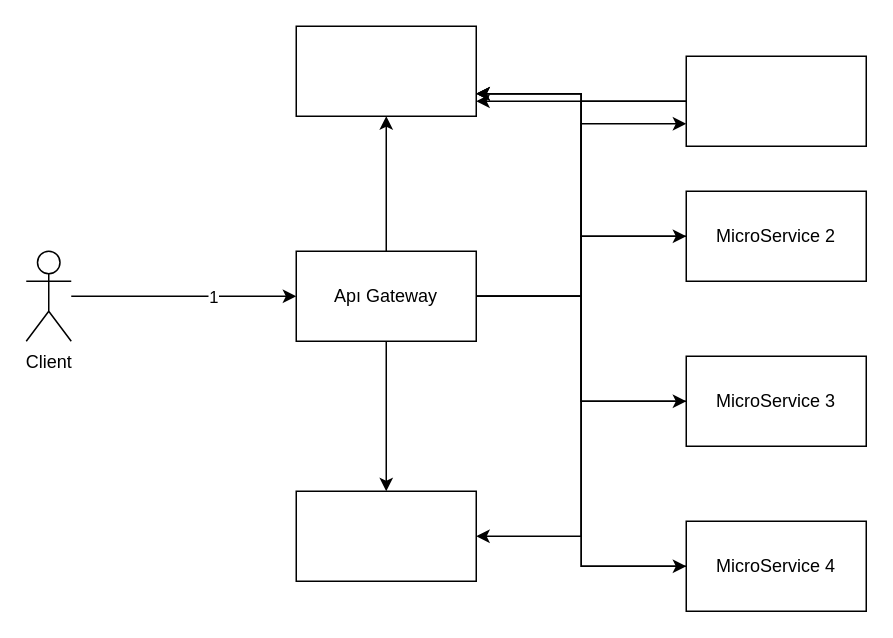
Image size: 893x638. Some labels were removed from this diagram. Here are the shapes that lost their labels. From the top down, the centre of each, then its label:
the point at 385,70: Discovery Server
the point at 775,100: MicroService 1
the point at 385,535: AuthServer
